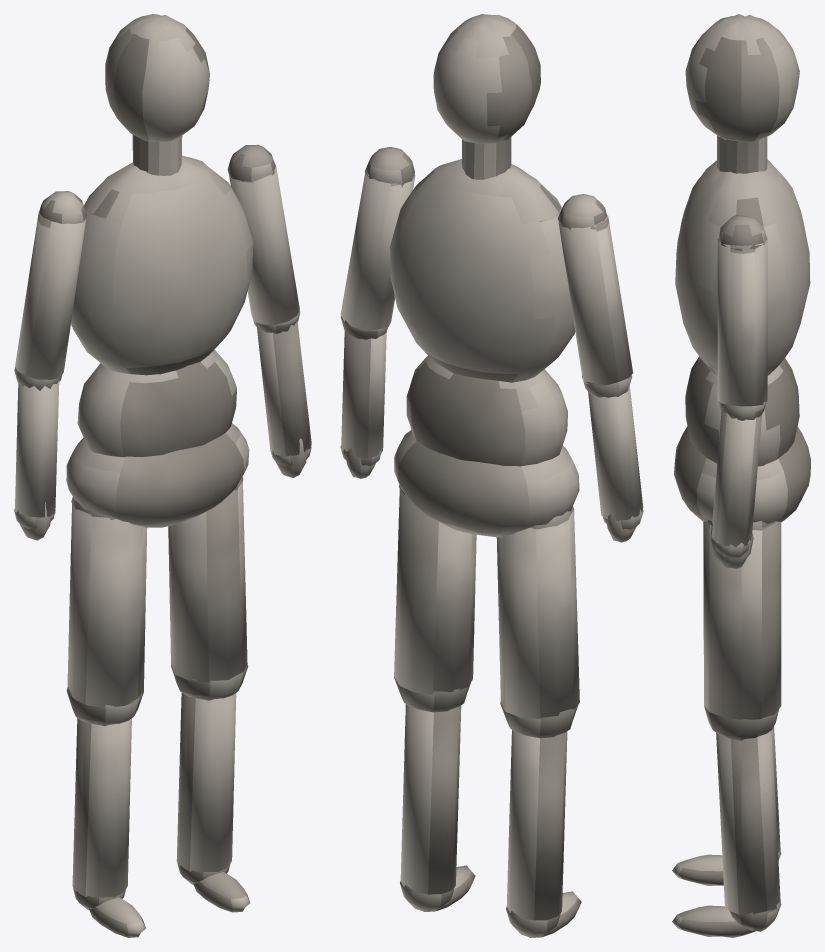
The model's file is M03_mannequin_v1.glb.
3 renders of one model, left to right at view 1: azimuth 30°, elevation 25°; view 2: azimuth 150°, elevation 25°; view 3: azimuth 270°, elevation 25°, orthographic.
Parts seen in each view (by area): view 1: M03_mannequin_v1; view 2: M03_mannequin_v1; view 3: M03_mannequin_v1.
Boxes of the visible parts, bbox=[...] form: M03_mannequin_v1: bbox=[14, 14, 311, 937]; M03_mannequin_v1: bbox=[340, 14, 643, 937]; M03_mannequin_v1: bbox=[672, 14, 810, 937].
Bounding box in the file's own units: 0.6205 × 1.8 × 0.2546.
1 material, 1 textured.
